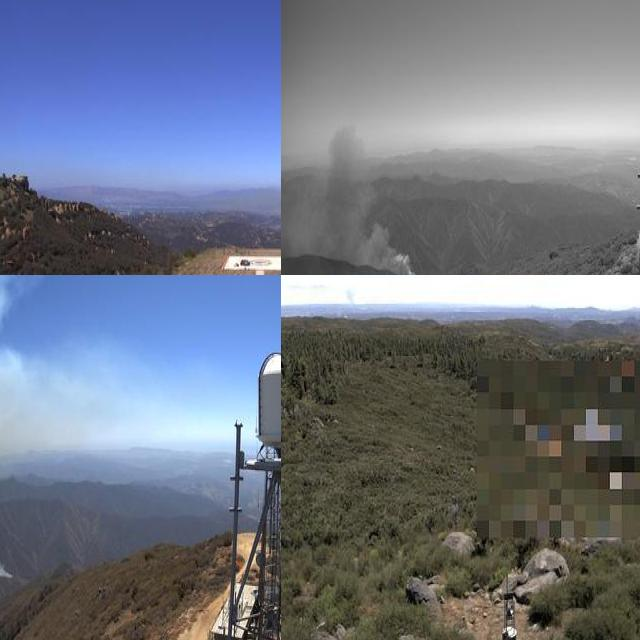smoke: (281, 122, 412, 275), (337, 280, 361, 316)
